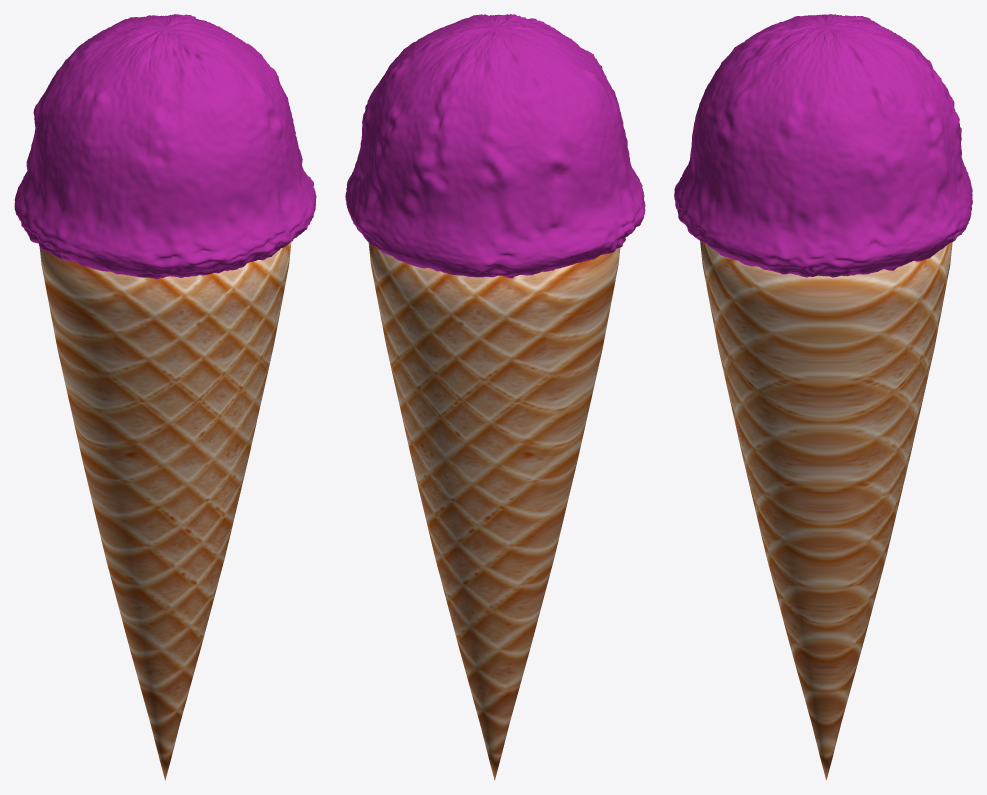
File: 1773125101_cus.glb
The picture shows the model from 3 angles, left to right: view 1: azimuth 30°, elevation 25°; view 2: azimuth 150°, elevation 25°; view 3: azimuth 270°, elevation 25°; orthographic projection.
Visible parts, largest first — view 1: Cylinder; view 2: Cylinder; view 3: Cylinder.
Boxes of the visible parts, x1,y1,x2,y2 form: Cylinder: (14,14,316,780); Cylinder: (345,14,645,780); Cylinder: (674,14,972,780).
Bounding box in the file's own units: 223 × 610 × 219.
Materials: 2 (1 with a texture image).
